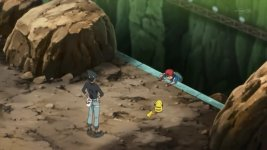pikachu: (145, 98, 167, 116)
